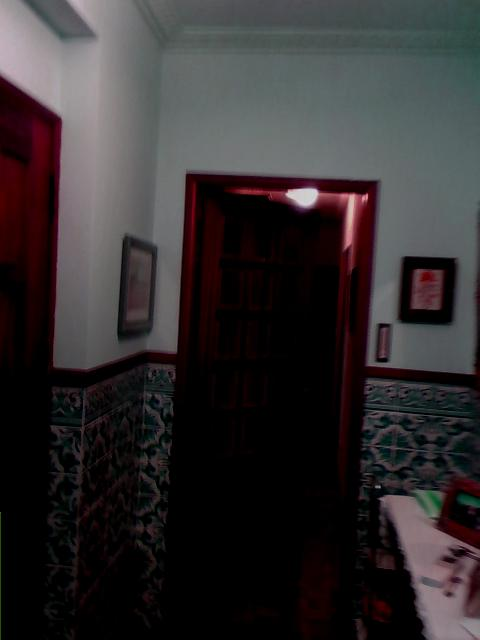semi_door: (164, 170, 380, 639)
